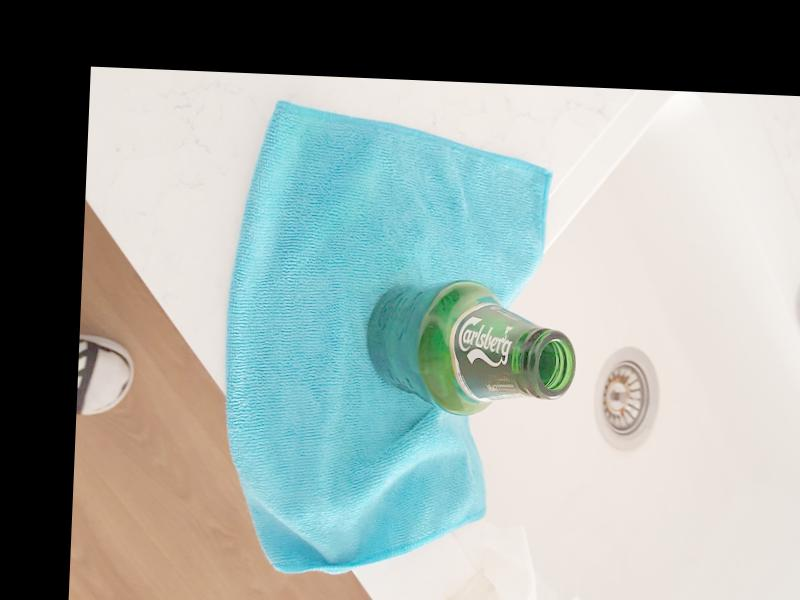Beer: (361, 282, 576, 420)
